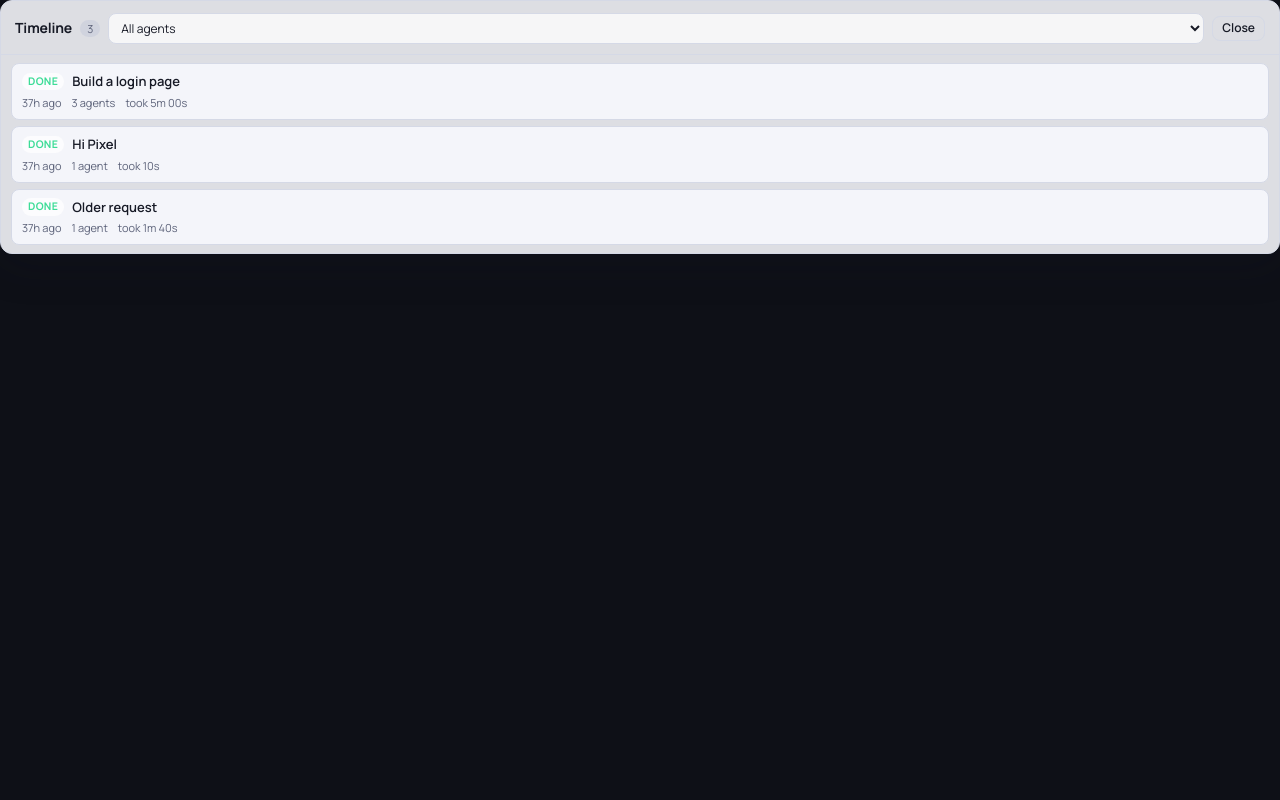
Test case: Timeline panel › opening a row shows its workflow as a board of numbered steps; a step opens the task drawer
Click the button "Done Build a login page 37h ago 3 agents took 5m 00s" at (43, 81), box [12,64,1268,119]
(page scrolled)
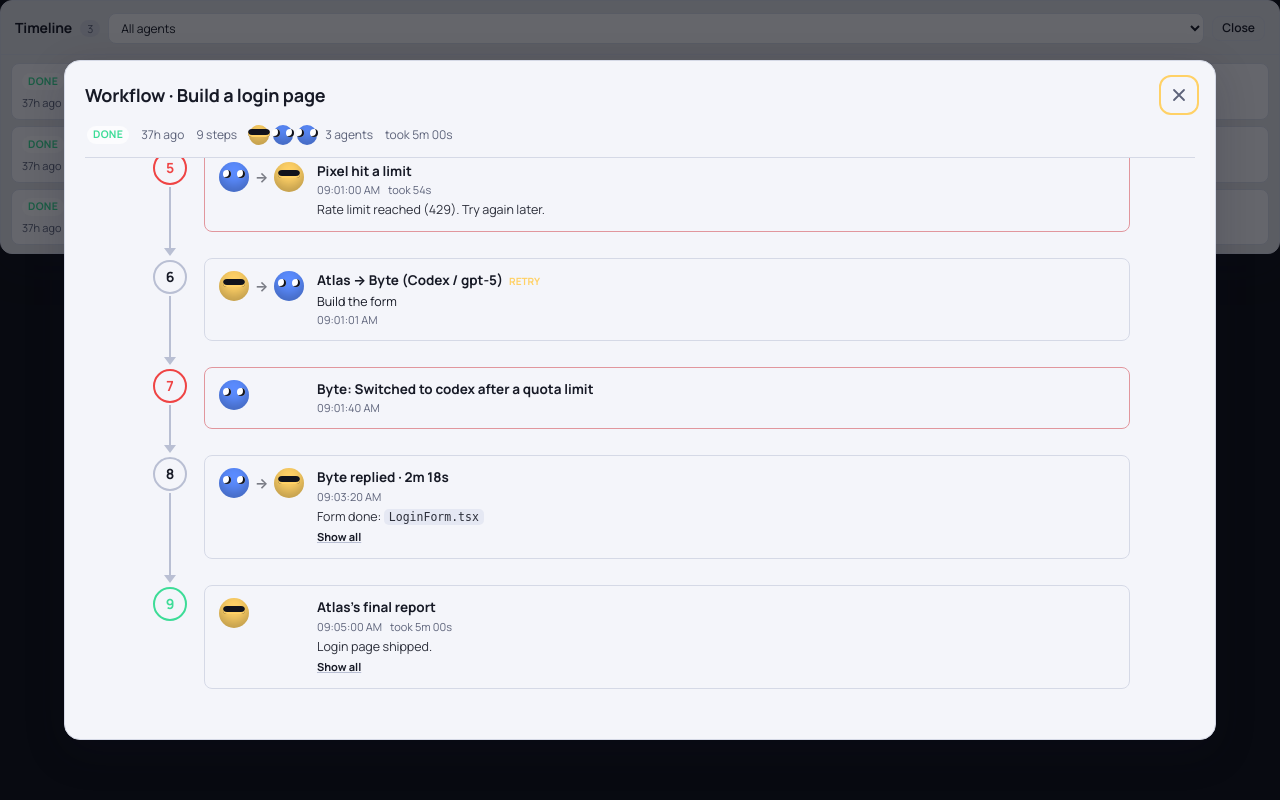
Expected: the text "Build the form" is shown, [317,293,397,310]
Expected: the list item with test id "wf-step" reads "8 → Byte replied · 2m 18s 09:03:20 AM Form done: LoginForm.tsx Show all", [317,468,449,488]
Click the button "Show all" below "Form done:" at (339, 537), box [317,529,361,545]
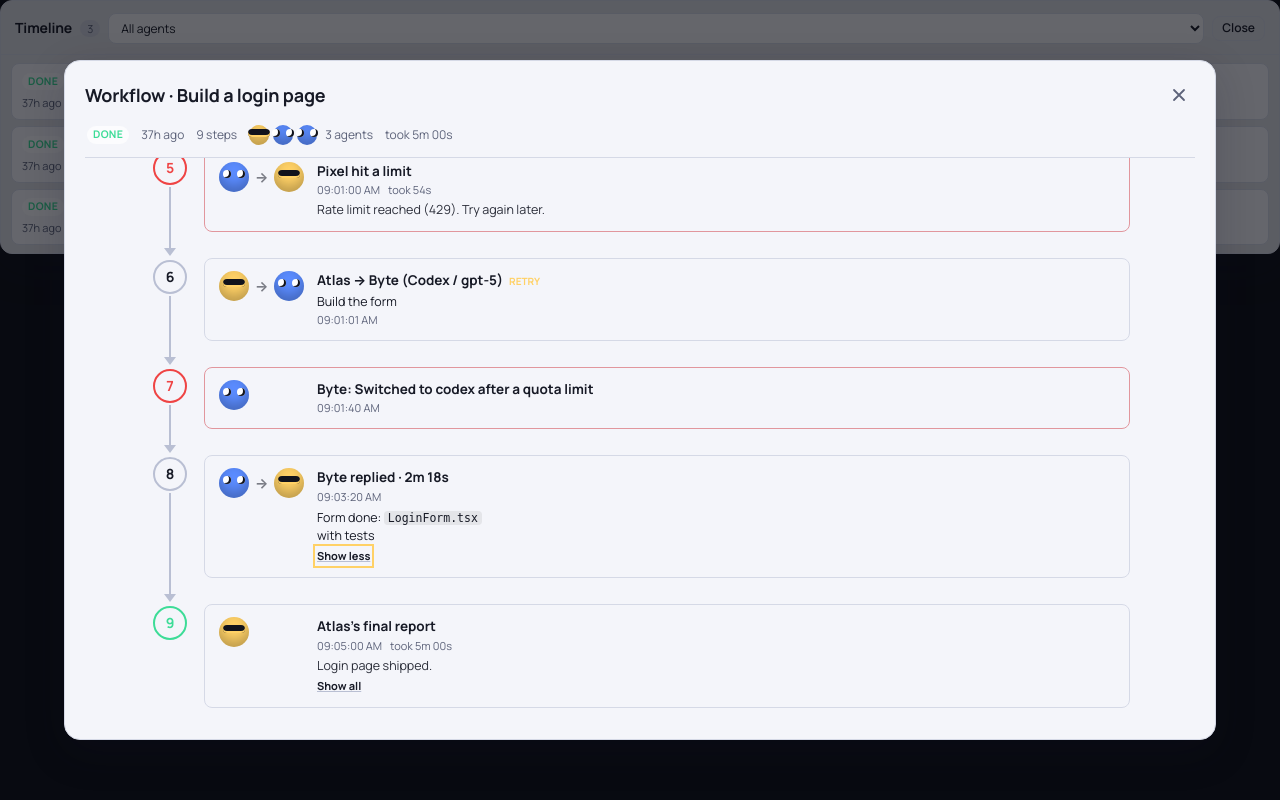
Expected: the text "LoginForm.tsx" is shown, [384,511,482,525]
// Clicking a step opens that task's drawer.
Click the button "Atlas → Byte (Codex / gpt-5) retry" at (429, 281), box [317,271,540,291]
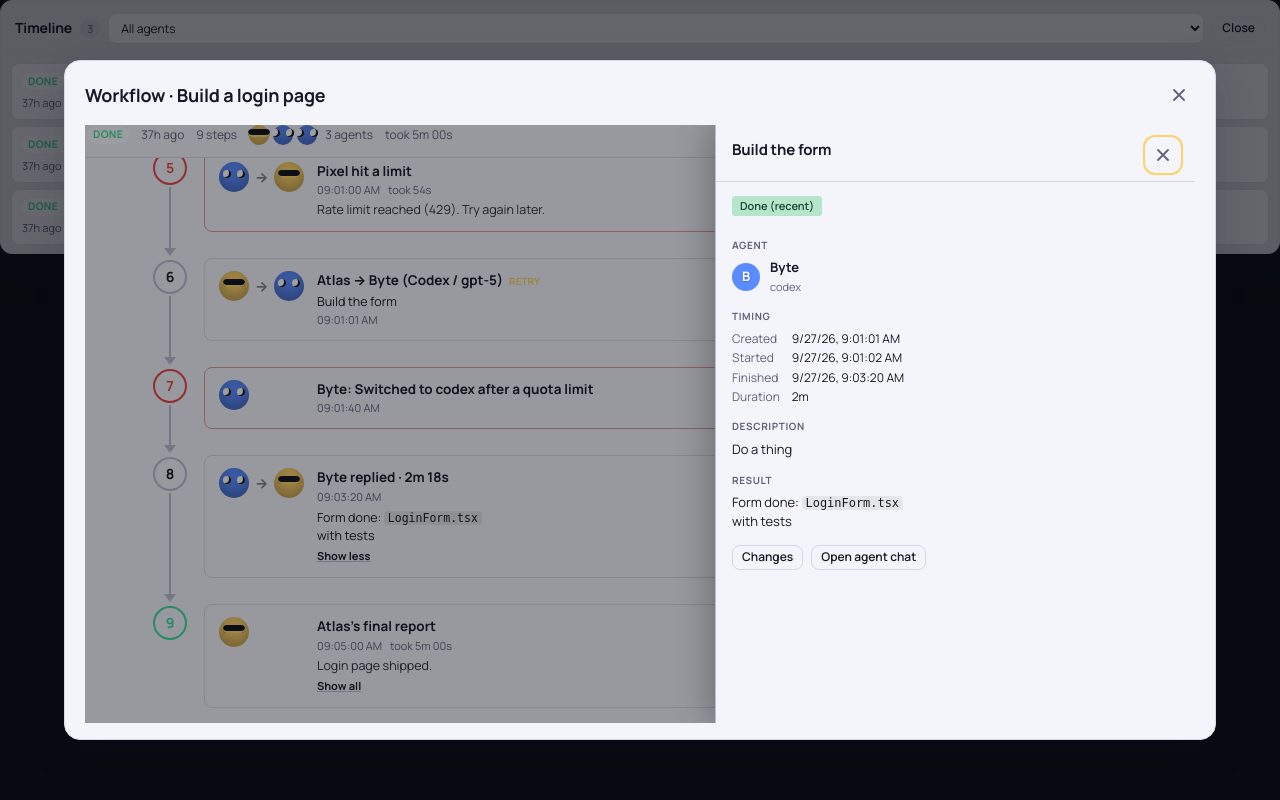
Expected: the heading "Build the form" is shown, [732,139,831,160]
